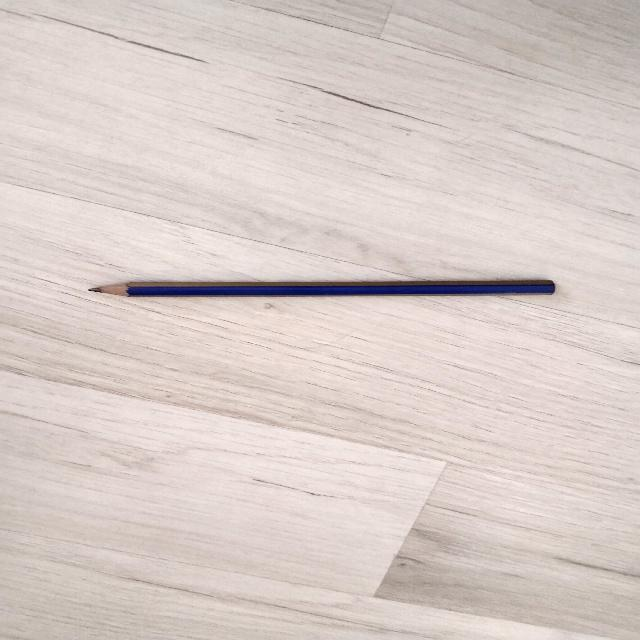pencil: (90, 280, 554, 296)
